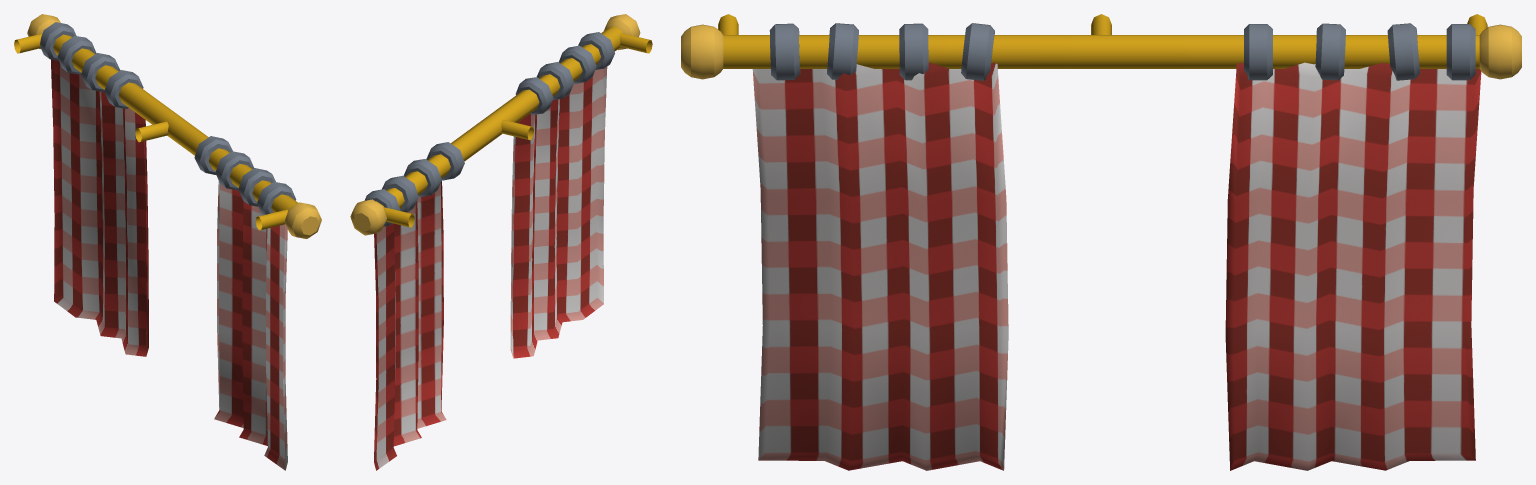
The model's file is Curtains_Long_2_A_C.glb.
The picture shows the model from 3 angles, left to right: view 1: azimuth 30°, elevation 25°; view 2: azimuth 150°, elevation 25°; view 3: azimuth 270°, elevation 25°; orthographic projection. The views are drawn at different scales.
Parts seen in each view (by area): view 1: Curtains_Long_2_A_C; view 2: Curtains_Long_2_A_C; view 3: Curtains_Long_2_A_C.
Part boxes in pixels (left/top/right/bottom): Curtains_Long_2_A_C: left=14, top=14, right=321, bottom=470; Curtains_Long_2_A_C: left=350, top=14, right=652, bottom=470; Curtains_Long_2_A_C: left=681, top=14, right=1521, bottom=470.
Bounding box in the file's own units: 0.2288 × 1.16 × 2.02.
2 materials, 2 textured.
